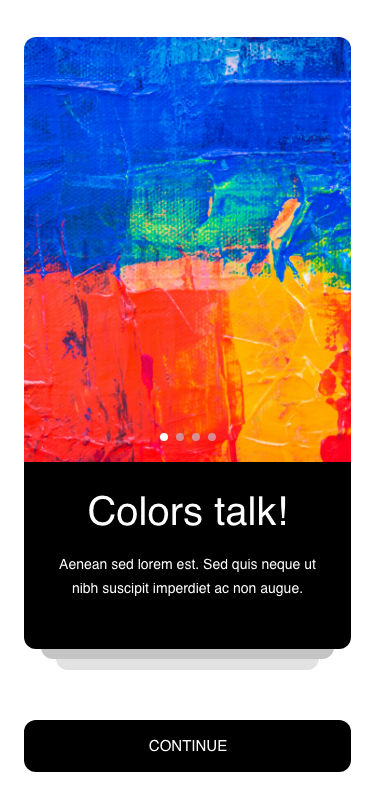Image: (25, 37, 352, 462)
PageIndicator: (153, 427, 223, 446)
Text: (59, 558, 317, 597), (89, 495, 286, 527)
TextButton: (25, 720, 351, 772)
